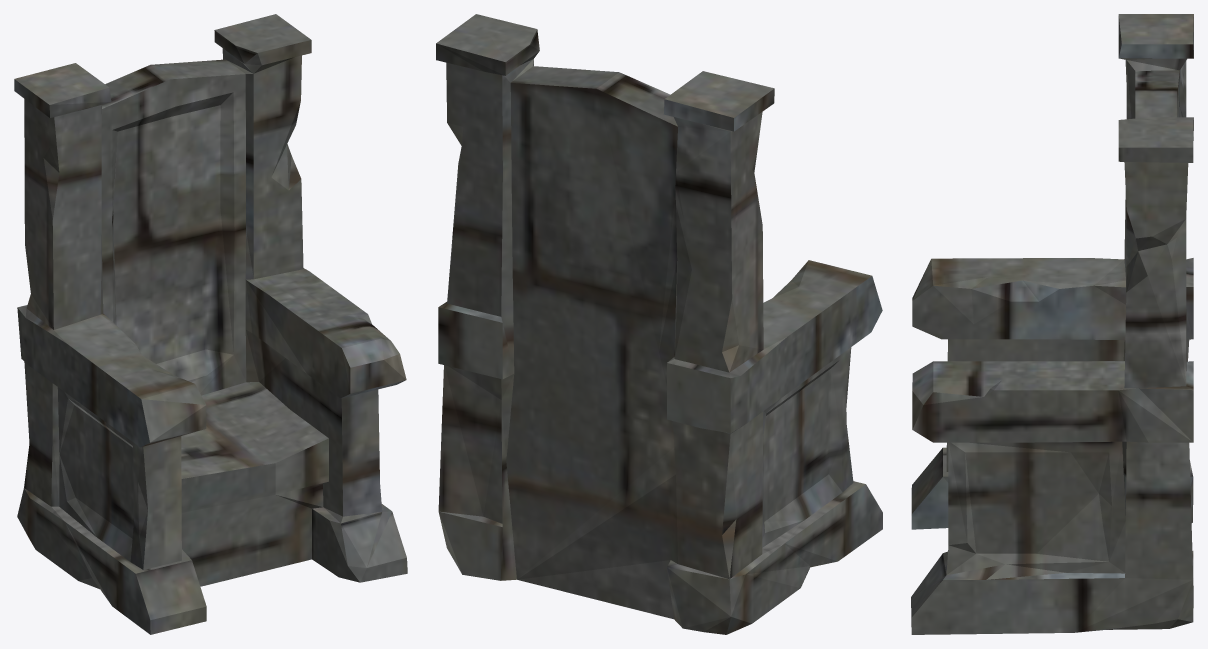
The model's file is Throne.fbx.
3 renders of one model, left to right at view 1: azimuth 30°, elevation 25°; view 2: azimuth 150°, elevation 25°; view 3: azimuth 270°, elevation 25°, orthographic. The views are drawn at different scales.
Parts seen in each view (by area): view 1: Throne Big; view 2: Throne Big; view 3: Throne Big.
Boxes of the visible parts, box(x1,y1,x2,y2) form: Throne Big: box(14, 14, 407, 634); Throne Big: box(436, 14, 882, 634); Throne Big: box(911, 14, 1193, 634).
Bounding box in the file's own units: 1088 × 1834 × 962.
Materials: 1 (1 with a texture image).
